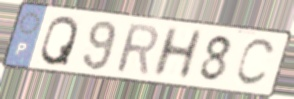8: (197, 34, 234, 84)
9: (79, 18, 118, 72)
C: (233, 37, 278, 89)
H: (149, 24, 207, 80)
Q: (38, 14, 81, 68)
R: (114, 21, 160, 77)
